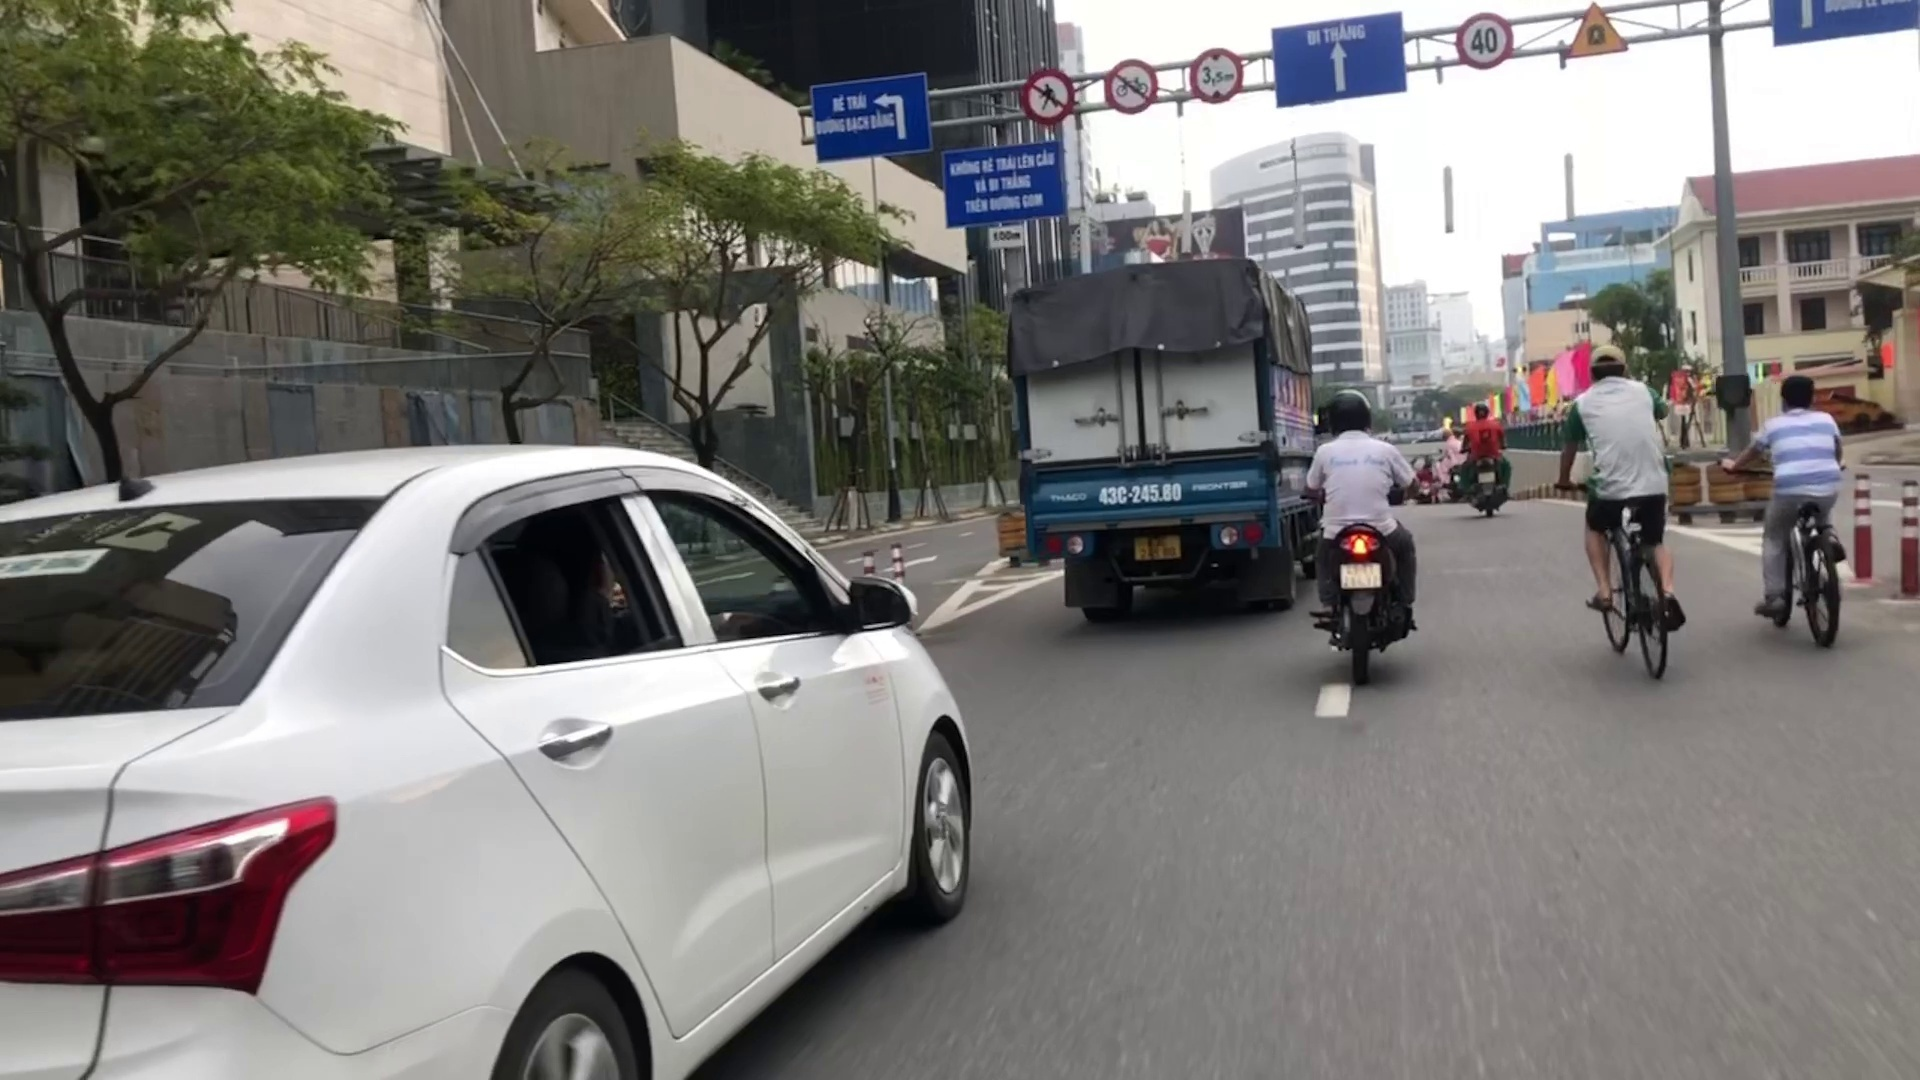Bien khac: (1456, 4, 1514, 76)
